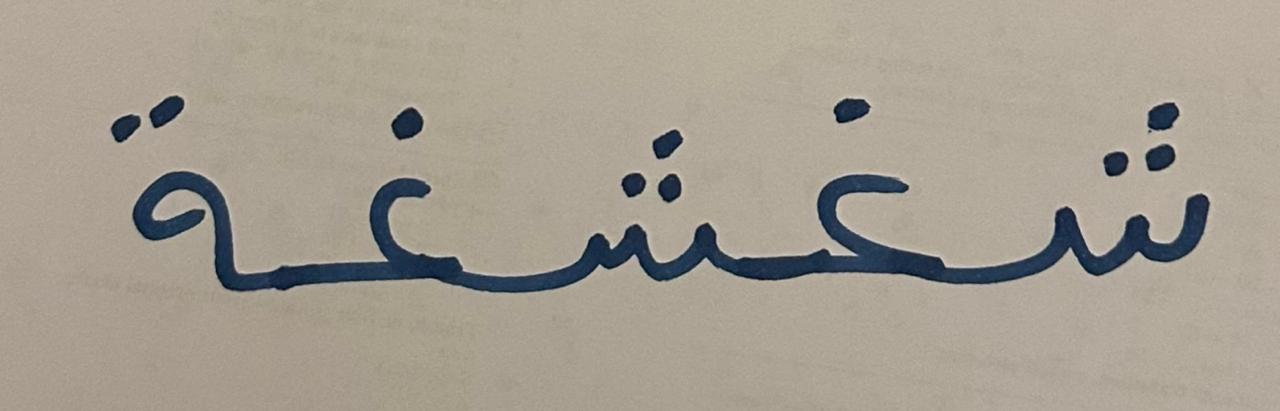ghain: (270, 59, 502, 342), (766, 55, 987, 351)
tah: (505, 42, 762, 348), (991, 56, 1241, 348)
thal: (62, 42, 267, 335)
